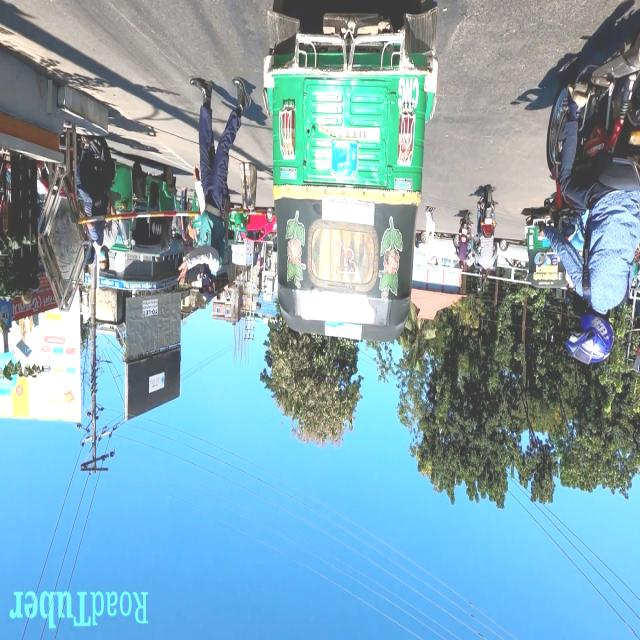silver: (497, 240, 528, 271)
white: (432, 236, 460, 270)
